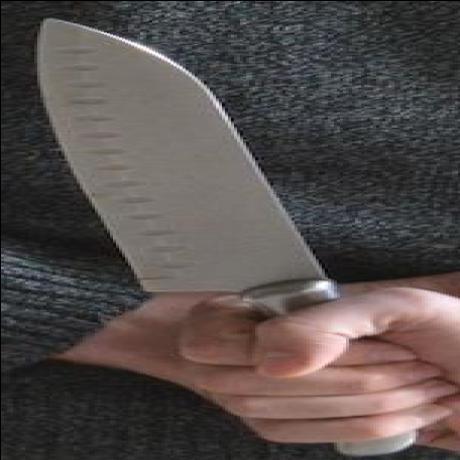1: (3, 274, 457, 460)
weapon: (32, 17, 330, 316)
